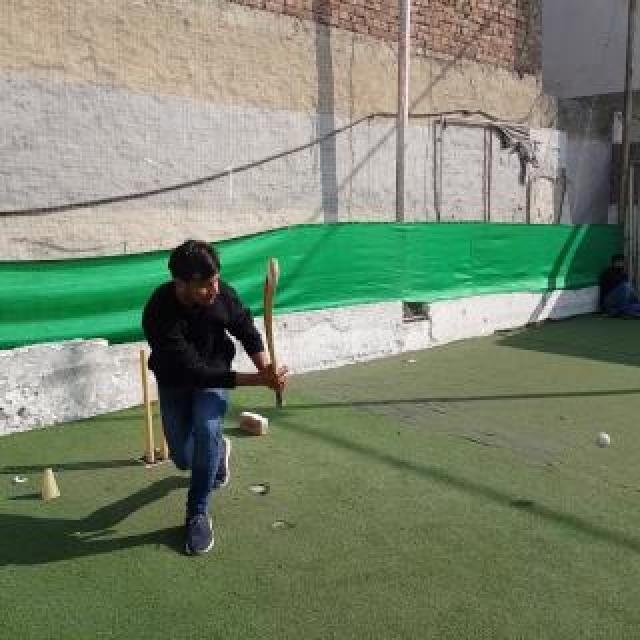ball: (596, 432, 612, 448)
bat: (262, 258, 286, 408)
